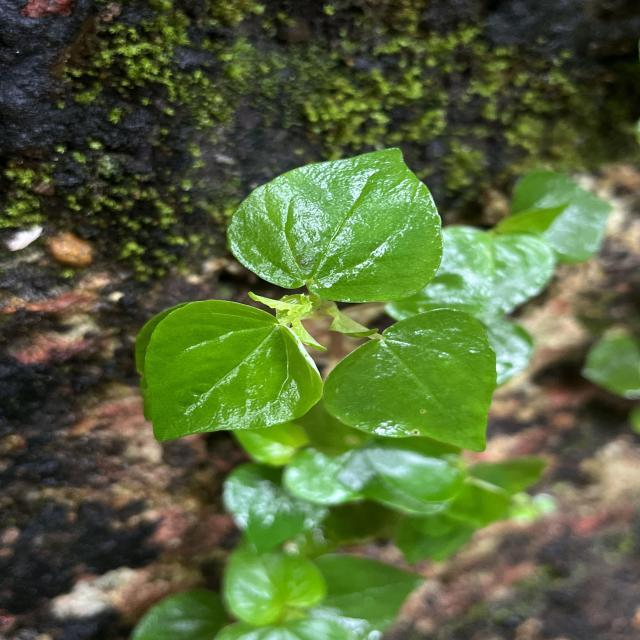Peperomia pellucida: (222, 144, 447, 308), (139, 296, 325, 446), (318, 306, 499, 454)
